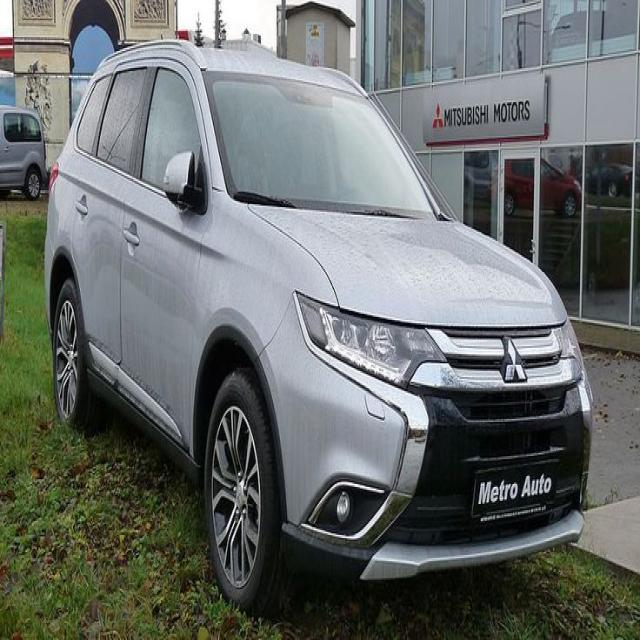light_vehicle: (43, 36, 594, 614)
